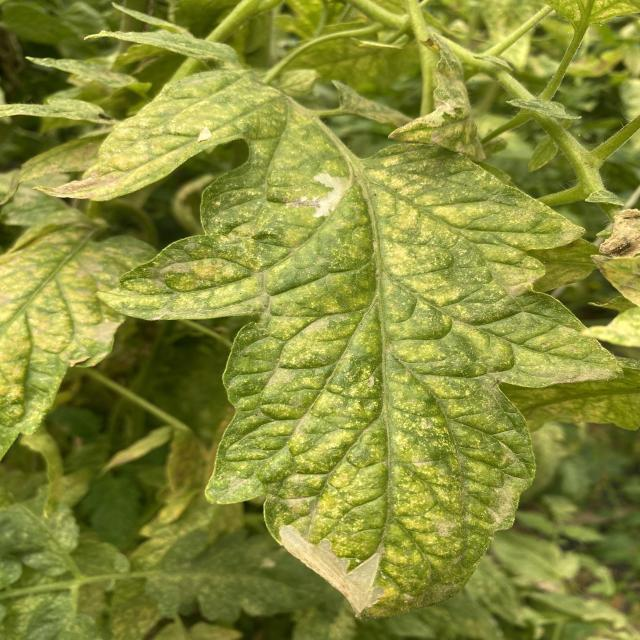Tuta absoluta: (272, 491, 403, 619), (285, 161, 356, 231)
